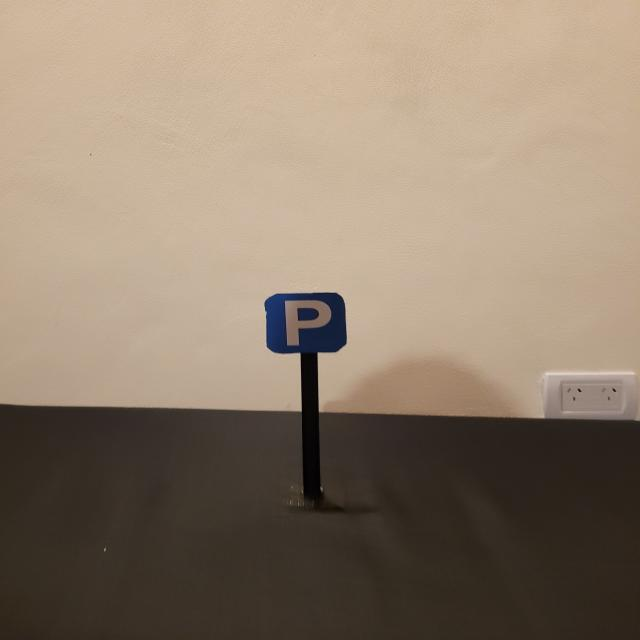parking: (265, 292, 348, 354)
